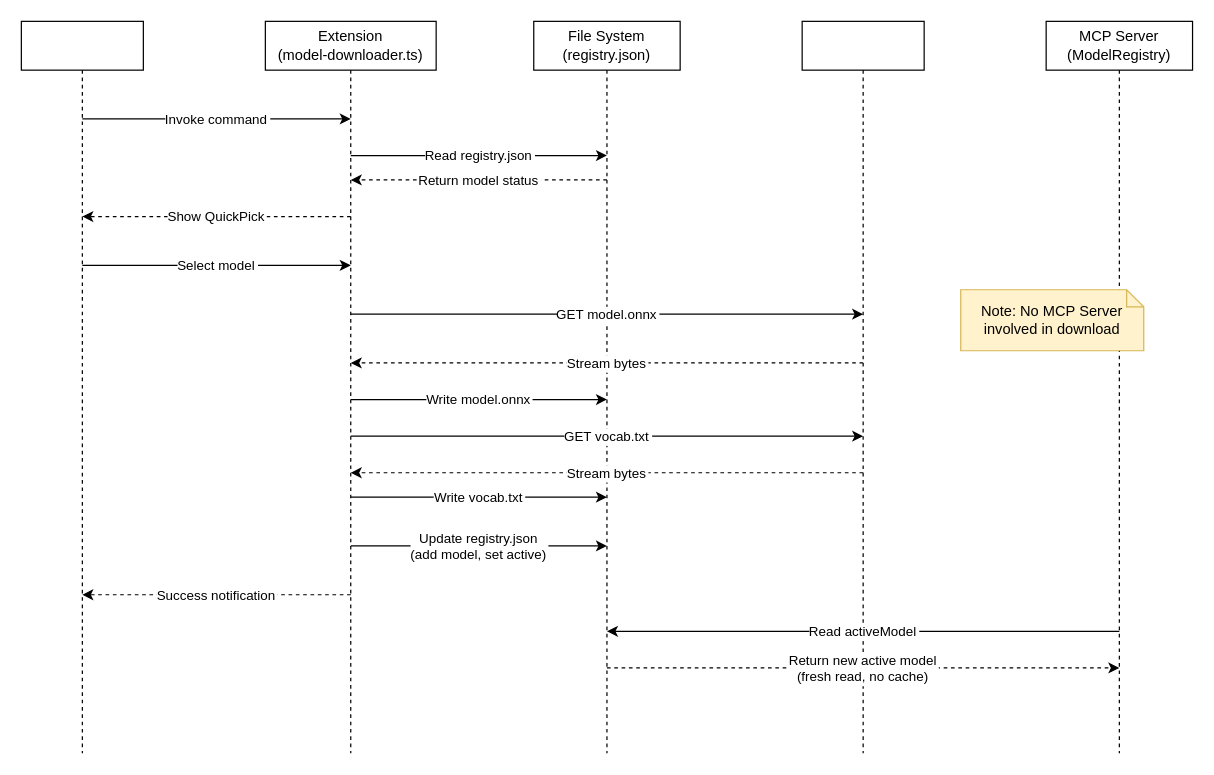
The diagram is 1214 pixels wide and 775 high, and some of its shapes have lost their labels. The shapes that lost their labels are listed below. From the top down, each one's box as (x1, y1, x2, y2) in pixels, then its label:
(20, 20, 143, 753): Developer
(801, 20, 924, 753): HuggingFace Hub
